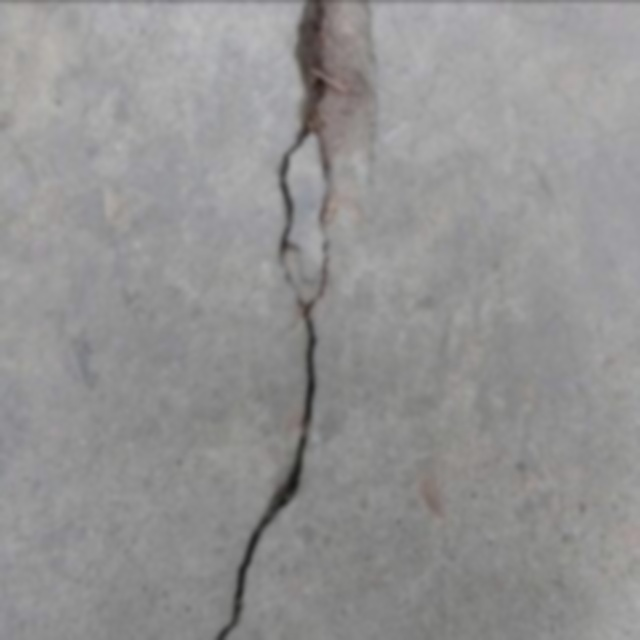SurfaceCrack: (202, 0, 388, 636)
